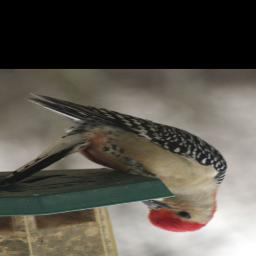Woodpecker: (22, 88, 226, 233)
